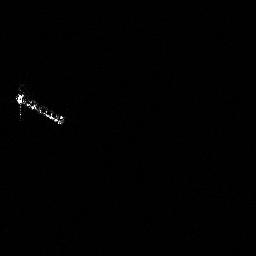ship: (10, 83, 69, 128)
